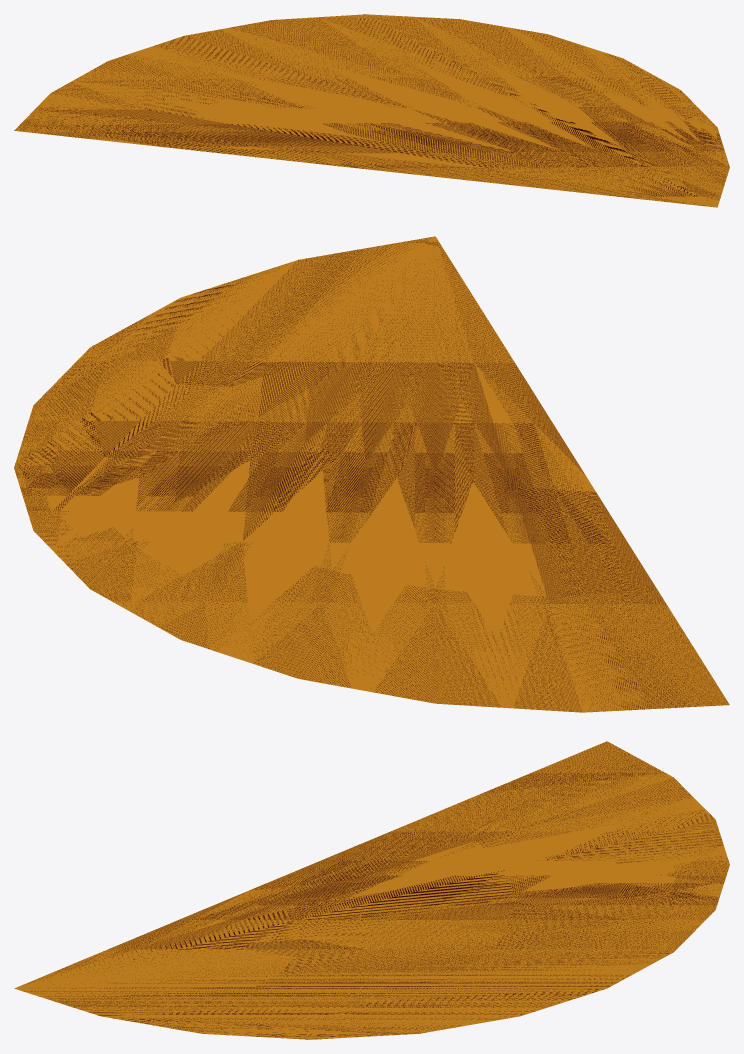
File: original-23.obj
3 views of the same model, one above another, from view 1: azimuth 30°, elevation 25°; view 2: azimuth 150°, elevation 25°; view 3: azimuth 270°, elevation 25° (orthographic). The views are drawn at different scales.
Parts seen in each view (by area): view 1: #ID159; view 2: #ID159; view 3: #ID159.
Part boxes in pixels (x1,y1,x2,y2): #ID159: (14, 14, 729, 207); #ID159: (14, 236, 729, 712); #ID159: (14, 741, 729, 1039).
Bounding box in the file's own units: 0.0578 × 0.000353 × 0.0578.
